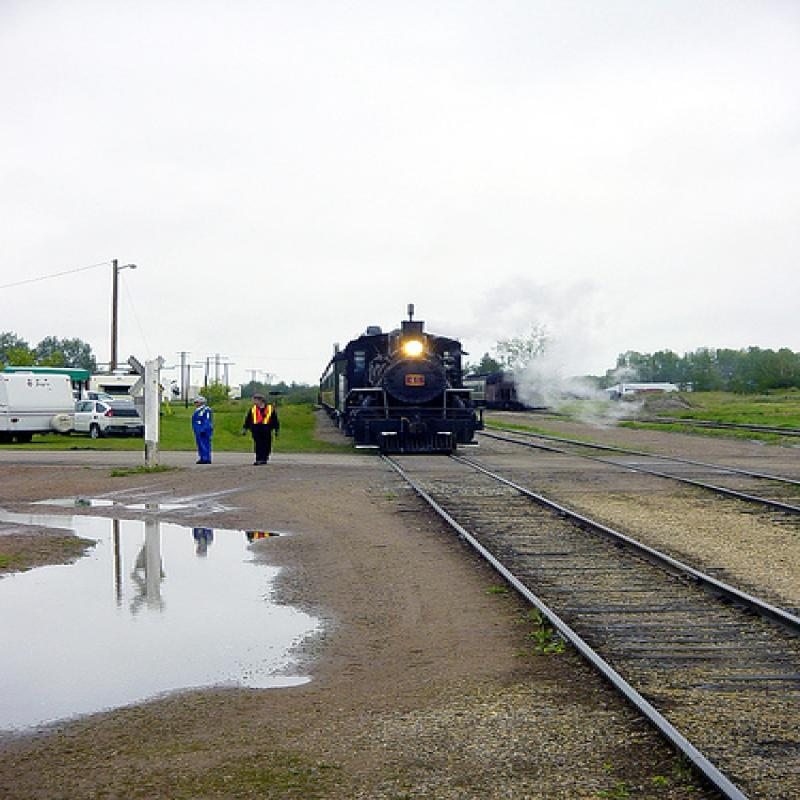train: (313, 299, 483, 459), (466, 337, 522, 412)
